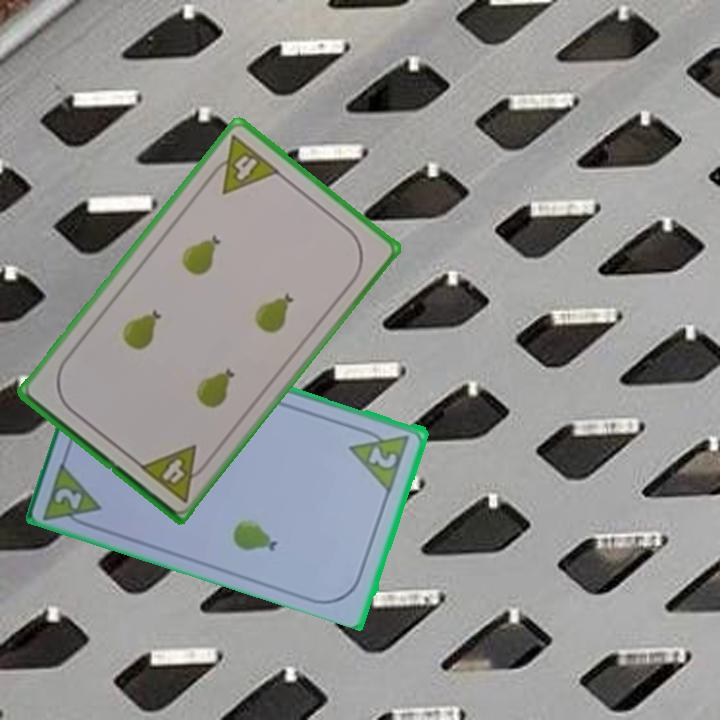2p: (40, 457, 106, 532), (346, 422, 413, 493)
4p: (202, 130, 283, 197), (135, 441, 214, 505)
